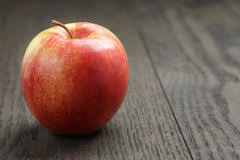apple: (23, 24, 129, 135)
